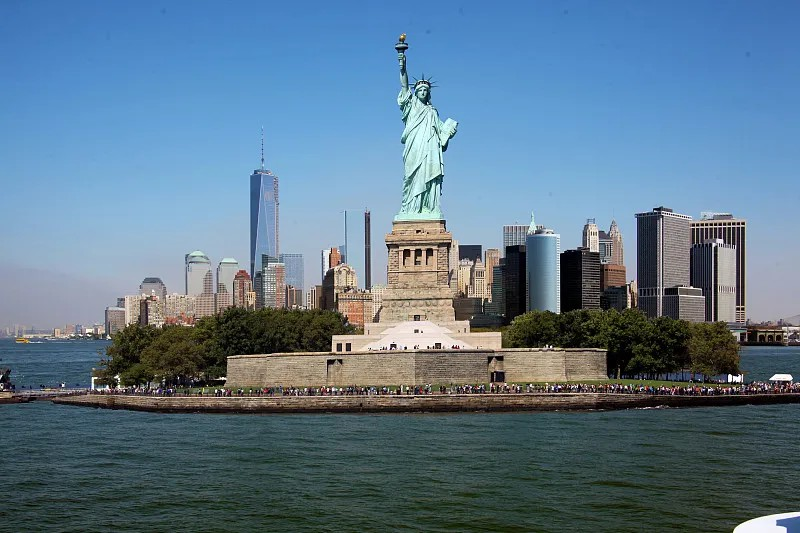SL: (379, 33, 459, 321)
